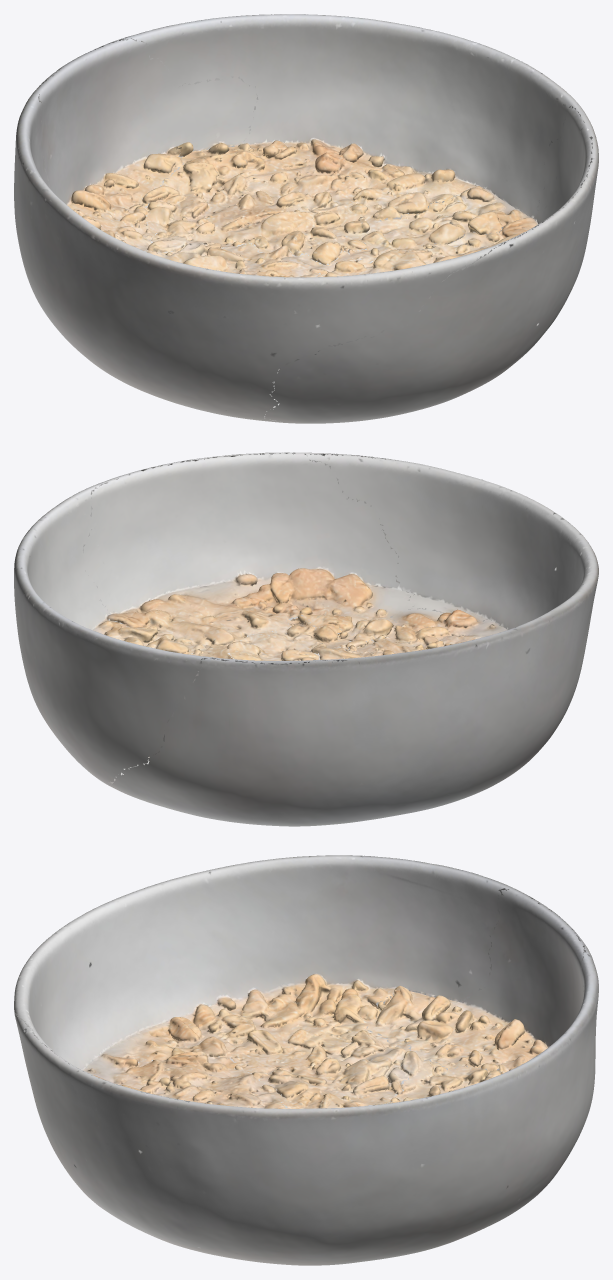
File: base_basic_pbr_12MB.glb
The picture shows the model from 3 angles, top to bottom: view 1: azimuth 30°, elevation 25°; view 2: azimuth 150°, elevation 25°; view 3: azimuth 270°, elevation 25°; orthographic projection. The views are drawn at different scales.
Visible parts, largest first — view 1: model; view 2: model; view 3: model.
Part boxes in pixels (x1,y1,x2,y2): model: [14, 14, 598, 423]; model: [14, 452, 598, 826]; model: [14, 855, 598, 1265].
Bounding box in the file's own units: 1.9 × 0.7832 × 1.88.
Materials: 1 (1 with a texture image).
